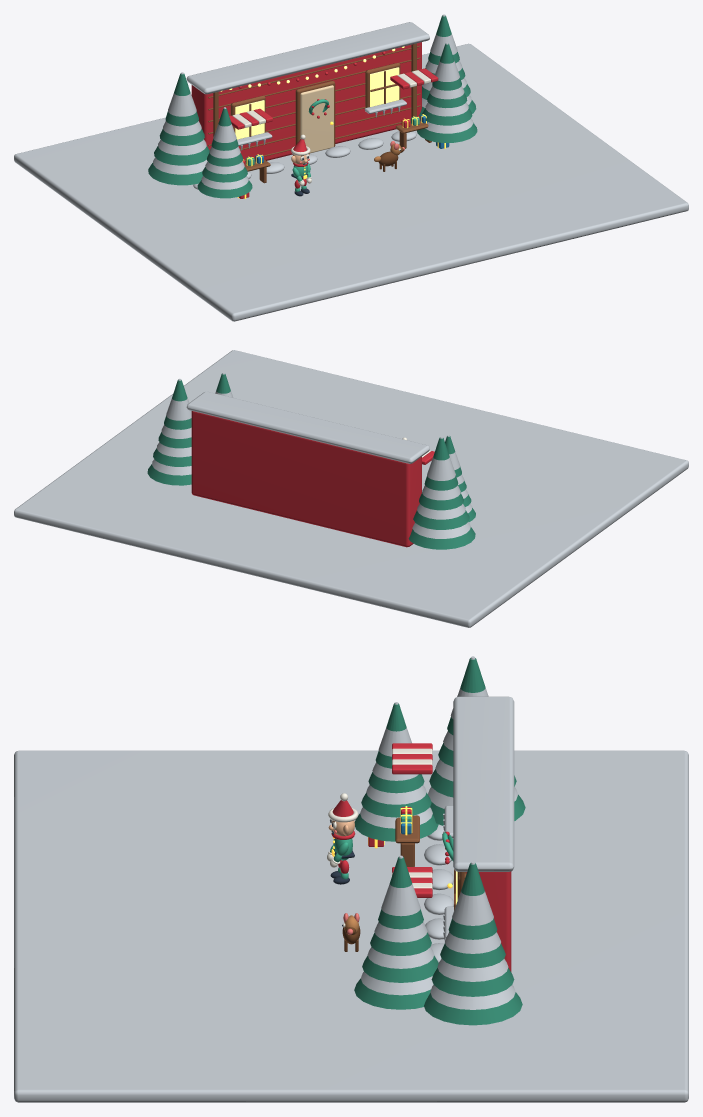
File: chapter-22.glb
3 renders of one model, top to bottom at view 1: azimuth 30°, elevation 25°; view 2: azimuth 150°, elevation 25°; view 3: azimuth 270°, elevation 25°, orthographic. The views are drawn at different scales.
Visible parts, largest first — view 1: Schneeboden, Werkstatt, Schneegesims, Wichteltür, Warmes Fenster.001, Tannenzweig.008, Tannenzweig.009, Türrahmen, Tannenzweig.004, Tannenzweig.011, Warmes Fenster, Schnee.011 (+6 smaller); view 2: Schneeboden, Werkstatt, Schneegesims, Tannenzweig.008, Tannenzweig.009, Tannenzweig.011, Schnee.008, Schnee.011, Tannenzweig.015, Tannenzweig.012, Tannenzweig.010, Schnee.009 (+1 smaller); view 3: Schneeboden, Schneegesims, Werkstatt, Tannenzweig.012, Tannenzweig.013, Tannenzweig.015, Schnee.012, Tannenzweig.005, Tannenzweig.004, Schnee.015, Tannenzweig.007, Schnee.013 (+12 smaller).
Boxes of the visible parts, bbox=[...] form: Schneeboden: bbox=[14, 43, 688, 321]; Werkstatt: bbox=[191, 42, 421, 162]; Schneegesims: bbox=[186, 22, 429, 94]; Wichteltür: bbox=[300, 85, 333, 153]; Warmes Fenster.001: bbox=[370, 67, 399, 106]; Tannenzweig.008: bbox=[148, 163, 202, 185]; Tannenzweig.009: bbox=[154, 146, 209, 165]; Türrahmen: bbox=[295, 81, 335, 146]; Tannenzweig.004: bbox=[417, 122, 477, 142]; Tannenzweig.011: bbox=[165, 73, 198, 126]; Warmes Fenster: bbox=[235, 100, 264, 139]; Schnee.011: bbox=[168, 72, 196, 116]; Schneeboden: bbox=[14, 350, 688, 627]; Werkstatt: bbox=[191, 411, 421, 547]; Schneegesims: bbox=[186, 391, 429, 463]; Tannenzweig.008: bbox=[408, 527, 475, 549]; Tannenzweig.009: bbox=[413, 510, 469, 529]; Tannenzweig.011: bbox=[424, 437, 458, 490]; Schnee.008: bbox=[412, 522, 470, 538]; Schnee.011: bbox=[427, 436, 455, 480]; Tannenzweig.015: bbox=[164, 380, 191, 429]; Tannenzweig.012: bbox=[147, 464, 191, 485]; Tannenzweig.010: bbox=[419, 493, 463, 510]; Schnee.009: bbox=[417, 504, 465, 519]; Schneeboden: bbox=[14, 750, 688, 1102]; Schneegesims: bbox=[453, 696, 514, 871]; Werkstatt: bbox=[466, 871, 511, 971]; Tannenzweig.012: bbox=[424, 992, 522, 1025]; Tannenzweig.013: bbox=[431, 968, 514, 996]; Tannenzweig.015: bbox=[448, 863, 497, 939]; Schnee.012: bbox=[430, 985, 515, 1009]; Tannenzweig.005: bbox=[362, 955, 438, 982]; Tannenzweig.004: bbox=[354, 978, 430, 1009]; Schnee.015: bbox=[452, 861, 493, 925]; Tannenzweig.007: bbox=[378, 857, 423, 929]; Schnee.013: bbox=[437, 959, 508, 981].
Size of the model in its own units: 18 by 4.39 by 15.
